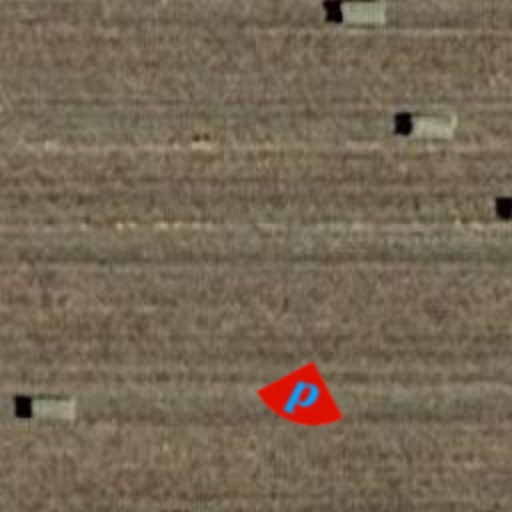quarter_circle: (248, 344, 356, 452)
